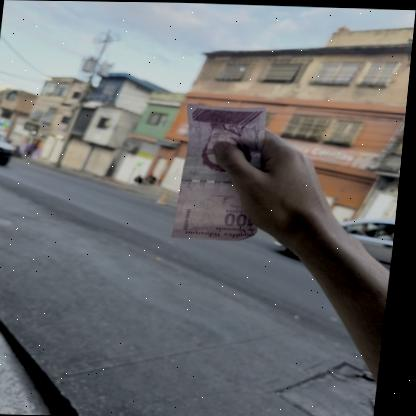one_hundred-front-vef: (174, 101, 270, 241)
